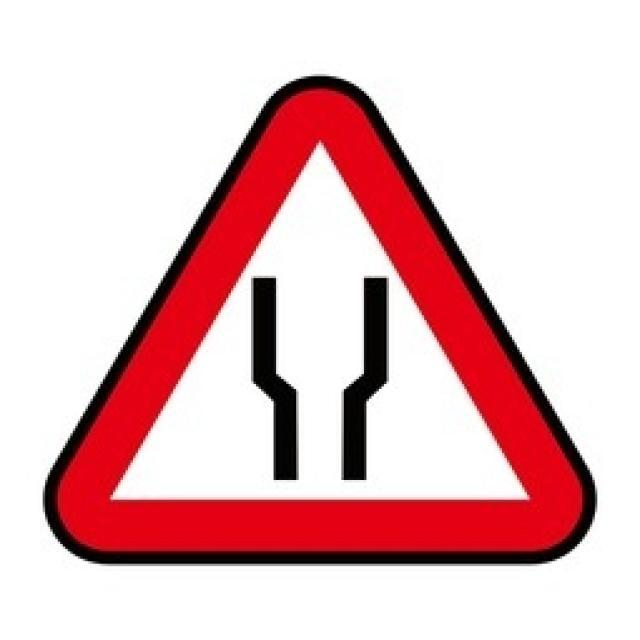road widens ahead: (39, 78, 596, 568)
